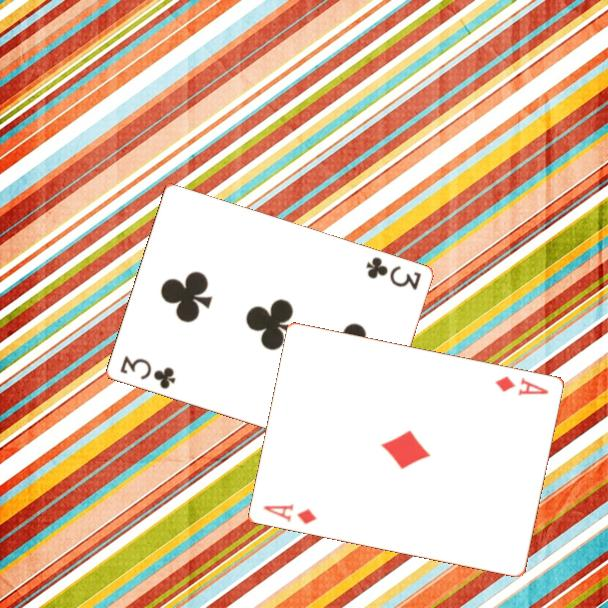c03: (116, 352, 178, 392), (362, 253, 424, 293)
d01: (260, 500, 320, 527), (492, 372, 552, 398)
